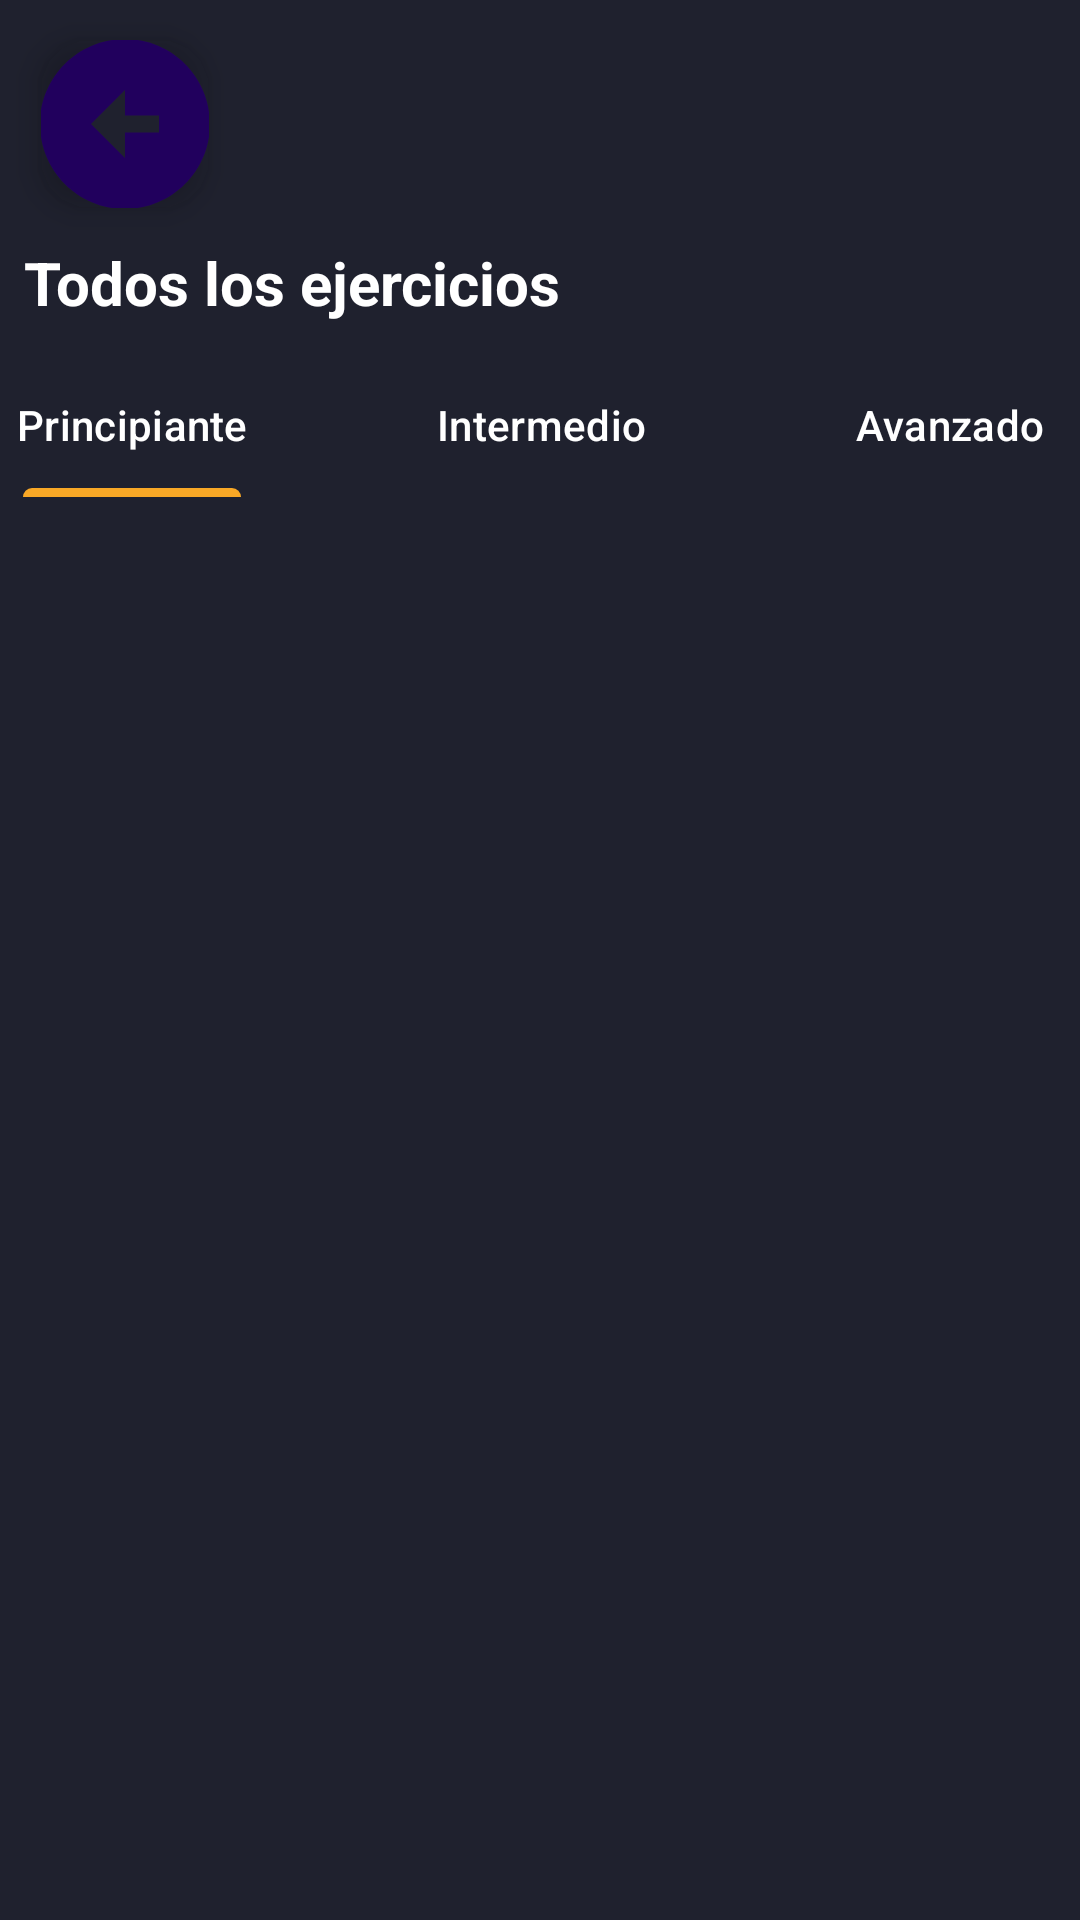

Icons on this 1080px×1920px Android screen, each with its box as (x1, y1, x2, y2):
arrow return: (41, 40, 209, 208)
